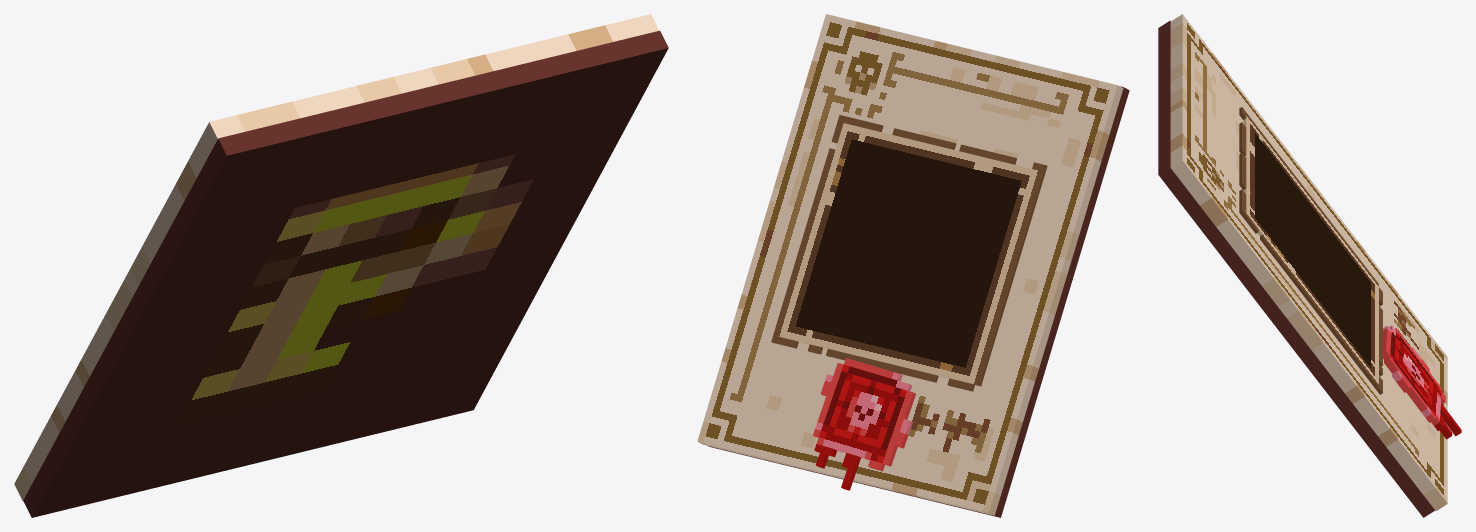
The model's file is IOU_Pirate.gltf.
3 views of the same model, side by side, from view 1: azimuth 30°, elevation 25°; view 2: azimuth 150°, elevation 25°; view 3: azimuth 270°, elevation 25° (orthographic). The views are drawn at different scales.
Visible parts, largest first — view 1: IOU_rear-Local, IOU_front-Local; view 2: IOU_front-Local, Pirate_Frame-Local, seal$$(1)-Local, IOU_rear-Local; view 3: IOU_front-Local, Pirate_Frame-Local, IOU_rear-Local, seal$$(1)-Local.
Part boxes in pixels (x1,y1,x2,y2): IOU_rear-Local: [23, 30, 668, 517]; IOU_front-Local: [14, 14, 659, 500]; IOU_front-Local: [697, 14, 1123, 515]; Pirate_Frame-Local: [771, 115, 1047, 391]; seal$$(1)-Local: [813, 358, 915, 490]; IOU_rear-Local: [708, 86, 1129, 517]; IOU_front-Local: [1170, 14, 1447, 510]; Pirate_Frame-Local: [1239, 107, 1382, 394]; IOU_rear-Local: [1158, 21, 1434, 517]; seal$$(1)-Local: [1382, 325, 1461, 439].
Bounding box in the file's own units: 48.03 × 54.59 × 42.
4 materials, 4 textured.
